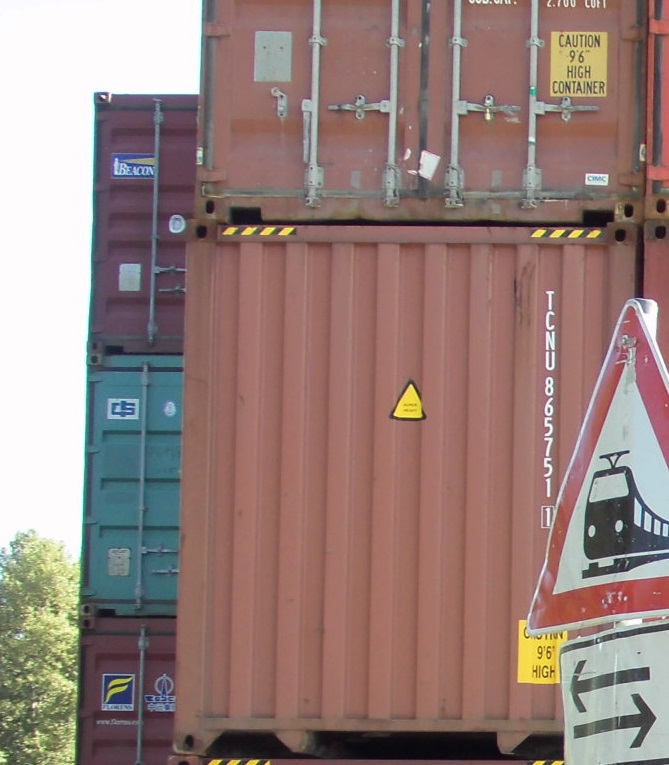container_door: (196, 1, 645, 225), (96, 89, 191, 357), (82, 349, 177, 617), (80, 617, 182, 765)
container_no_door: (182, 220, 634, 752)
